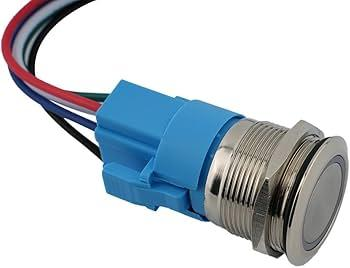pushbutton: (33, 53, 347, 263)
